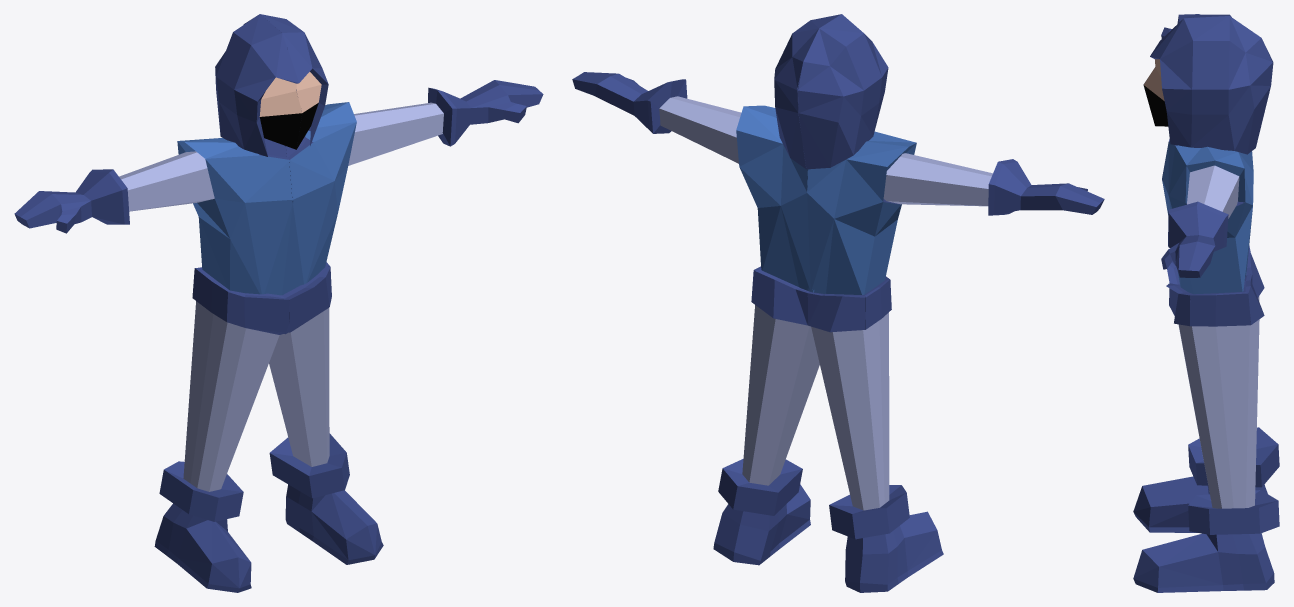
Rendered from archer.fbx.
3 renders of one model, left to right at view 1: azimuth 30°, elevation 25°; view 2: azimuth 150°, elevation 25°; view 3: azimuth 270°, elevation 25°, orthographic.
Visible parts, largest first — view 1: archer; view 2: archer; view 3: archer.
Part boxes in pixels (x1,y1,x2,y2): archer: (14,14,543,592); archer: (572,14,1104,592); archer: (1133,14,1279,592).
Size of the model in its own units: 1528 by 1496 by 368.
